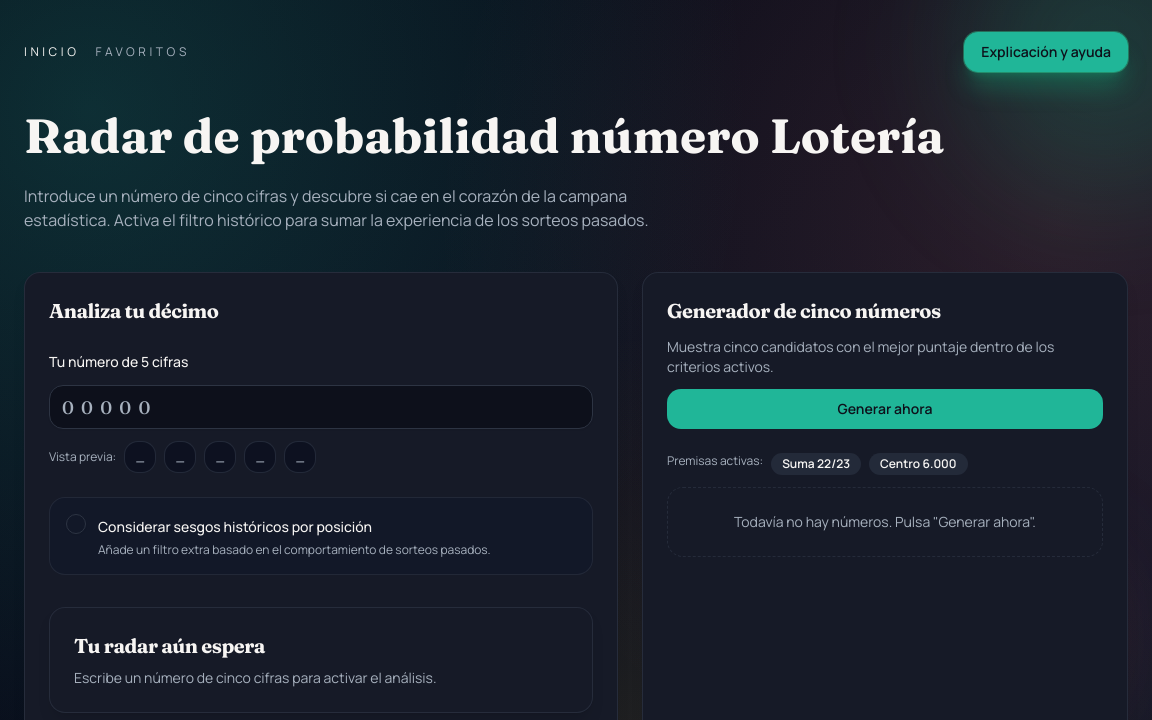
Test case: App › generates five numbers
Click the button "Generar ahora".
click(885, 409)  # box [667,389,1103,429]
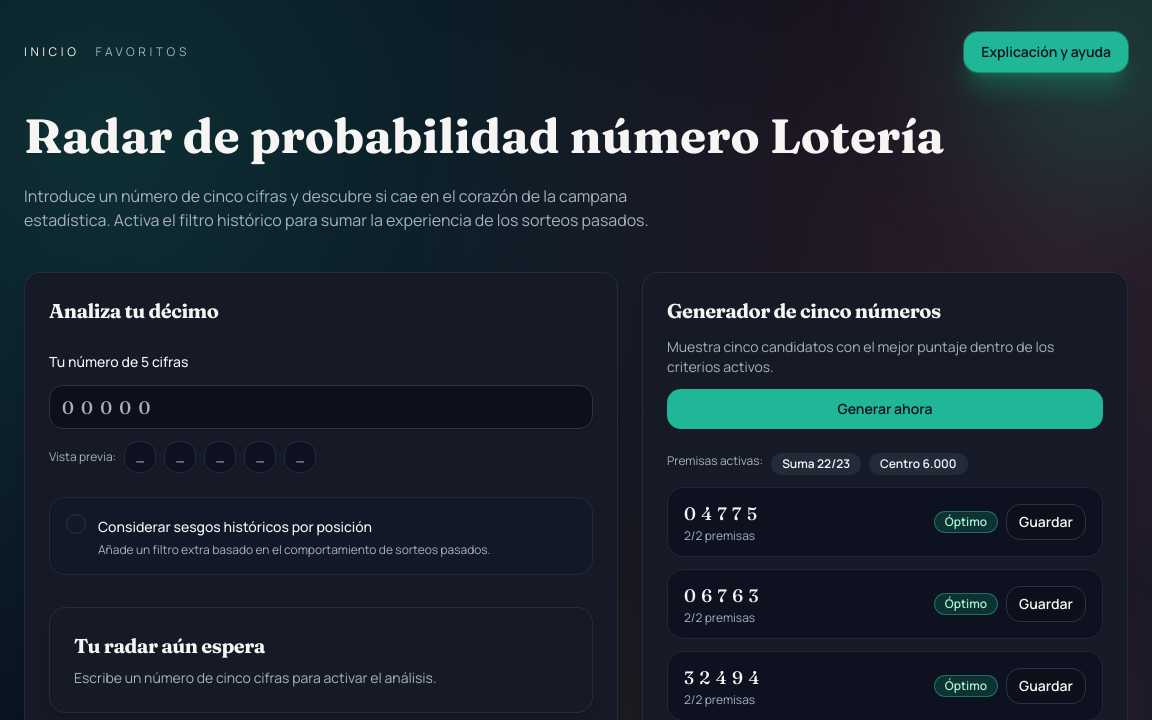
Result: the text "04775" is shown at [684,500,763,528]
